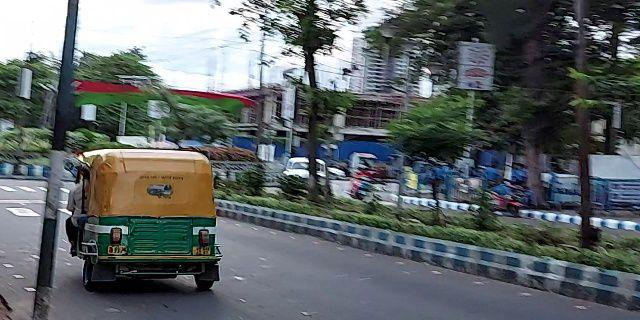Autorickshaw: (75, 150, 231, 292)
